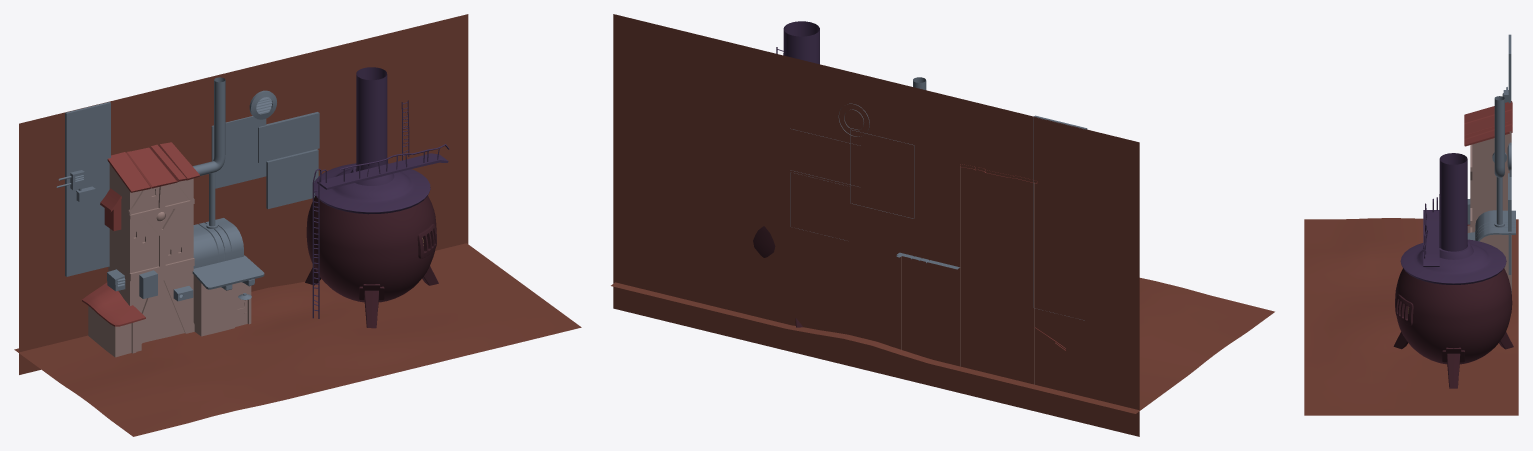
The model's file is Furnace_Env_Model.fbx.
The picture shows the model from 3 angles, left to right: view 1: azimuth 30°, elevation 25°; view 2: azimuth 150°, elevation 25°; view 3: azimuth 270°, elevation 25°; orthographic projection. The views are drawn at different scales.
Visible parts, largest first — view 1: Metal_Wall, ground, Building_Box, Furance_Body, Metal_Panel_04, Furnace_Cap, Building_Metal_Roof, Furnace_Pipe, Building_Frame, Building_Top_Roof, Metal_Panel_02, Metal_Panel_03 (+9 smaller); view 2: Metal_Wall, ground, Furnace_Pipe; view 3: ground, Furance_Body, Furnace_Cap, Building_Box, Furnace_Pipe, Building_Pips, Building_Top_Roof, Building_Metal_Roof, Furnace_Platform, Furnace_Leg_03, Furnace_Grate, Metal_Panel_04 (+2 smaller).
Part boxes in pixels (x1,y1,x2,y2): Metal_Wall: [19, 14, 468, 374]; ground: [14, 243, 581, 436]; Building_Box: [88, 164, 251, 357]; Furance_Body: [306, 171, 436, 302]; Metal_Panel_04: [65, 102, 110, 276]; Furnace_Cap: [314, 163, 430, 214]; Building_Metal_Roof: [192, 218, 264, 289]; Furnace_Pipe: [356, 67, 387, 171]; Building_Frame: [128, 181, 194, 353]; Building_Top_Roof: [107, 142, 199, 192]; Metal_Panel_02: [211, 116, 266, 188]; Metal_Panel_03: [266, 149, 318, 208]; Metal_Wall: [613, 14, 1139, 436]; ground: [611, 278, 1274, 413]; Furnace_Pipe: [783, 21, 819, 64]; ground: [1304, 218, 1518, 415]; Furance_Body: [1395, 268, 1512, 364]; Furnace_Cap: [1400, 239, 1506, 284]; Building_Box: [1467, 131, 1511, 293]; Furnace_Pipe: [1439, 153, 1467, 251]; Building_Pips: [1492, 96, 1506, 227]; Building_Top_Roof: [1464, 101, 1512, 146]; Building_Metal_Roof: [1467, 210, 1515, 241]; Furnace_Platform: [1423, 210, 1439, 266]; Furnace_Leg_03: [1442, 347, 1464, 388]; Furnace_Grate: [1395, 294, 1413, 325]; Metal_Panel_04: [1508, 34, 1511, 102].
Size of the model in its own units: 28.43 by 15.24 by 13.06.
